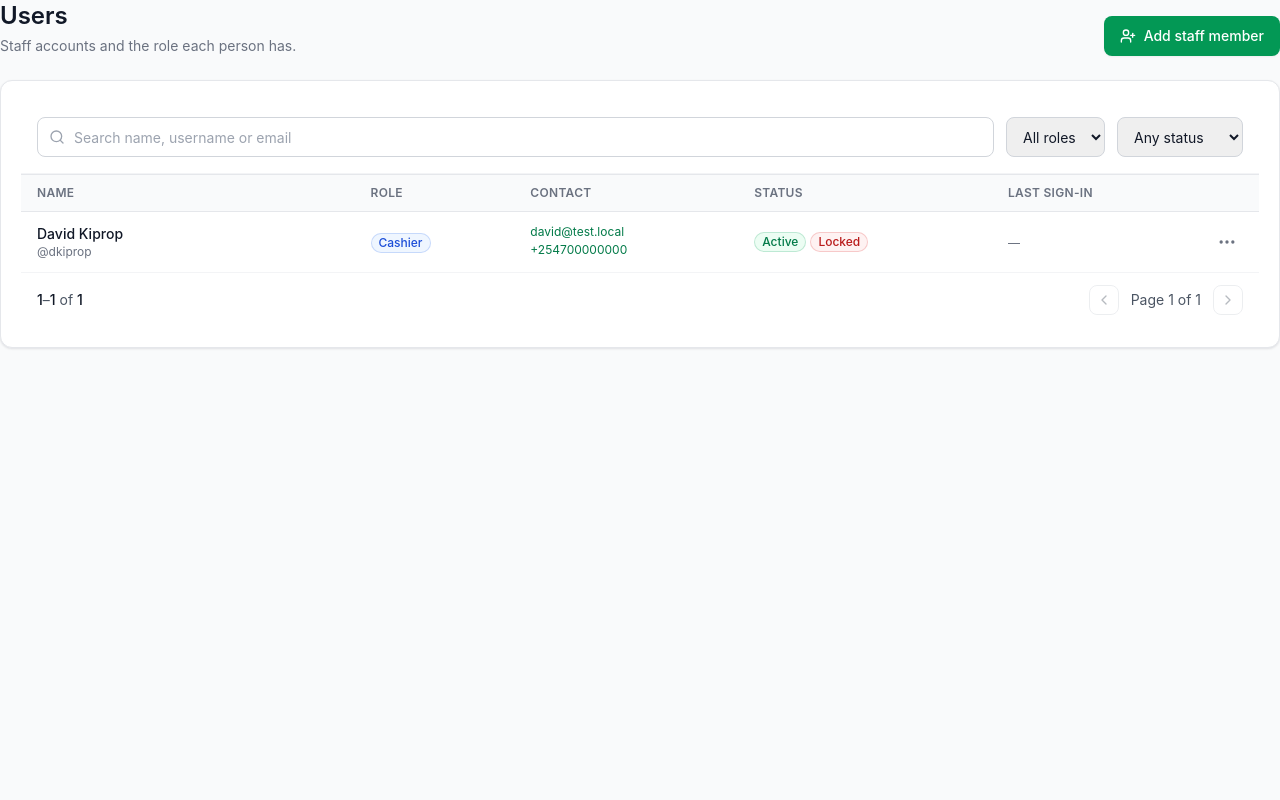
it: UsersPage › creates a user and shows the one-time setup link
The width and height of the screenshot is (1280, 800).
Click the button "Add staff member" at point(1192, 36), box [1104,16,1279,56]
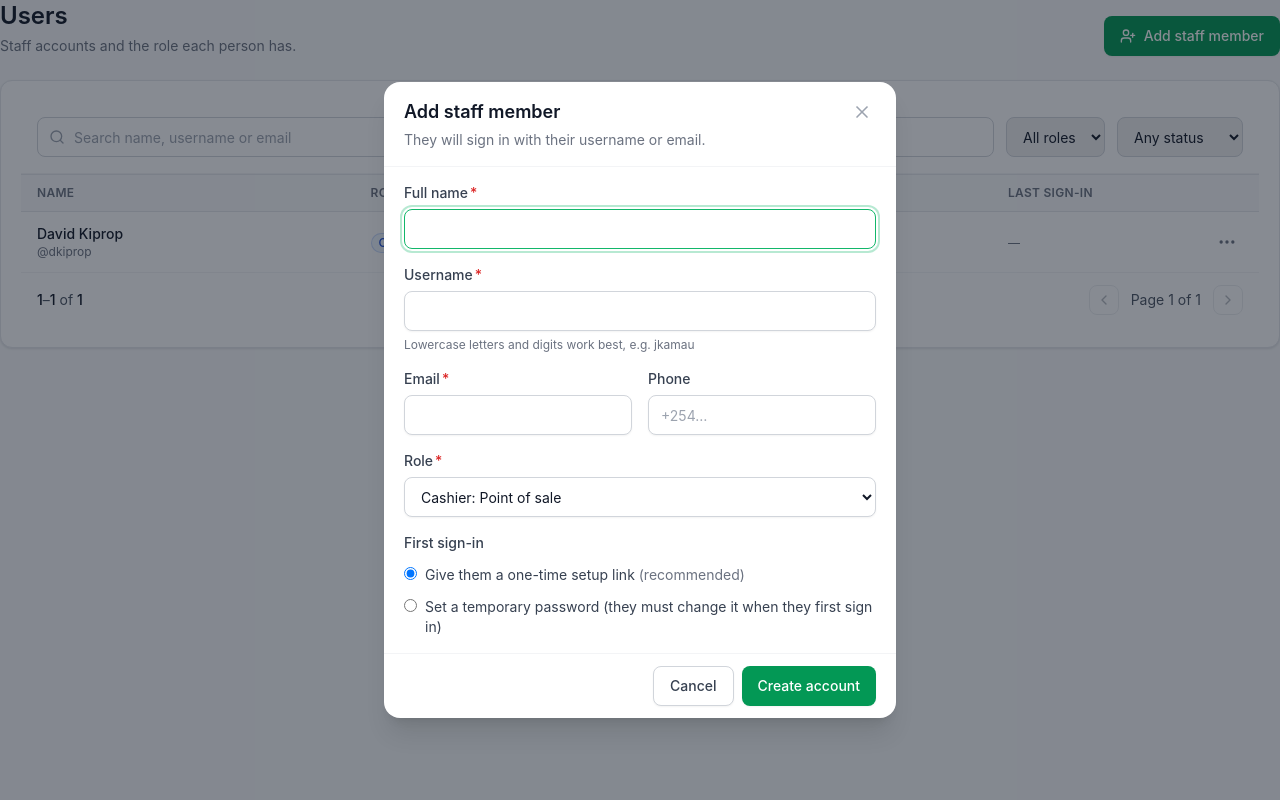
Type "Grace Njeri" into the field labelled "Full name*" at point(640, 229), box [404,209,876,249]
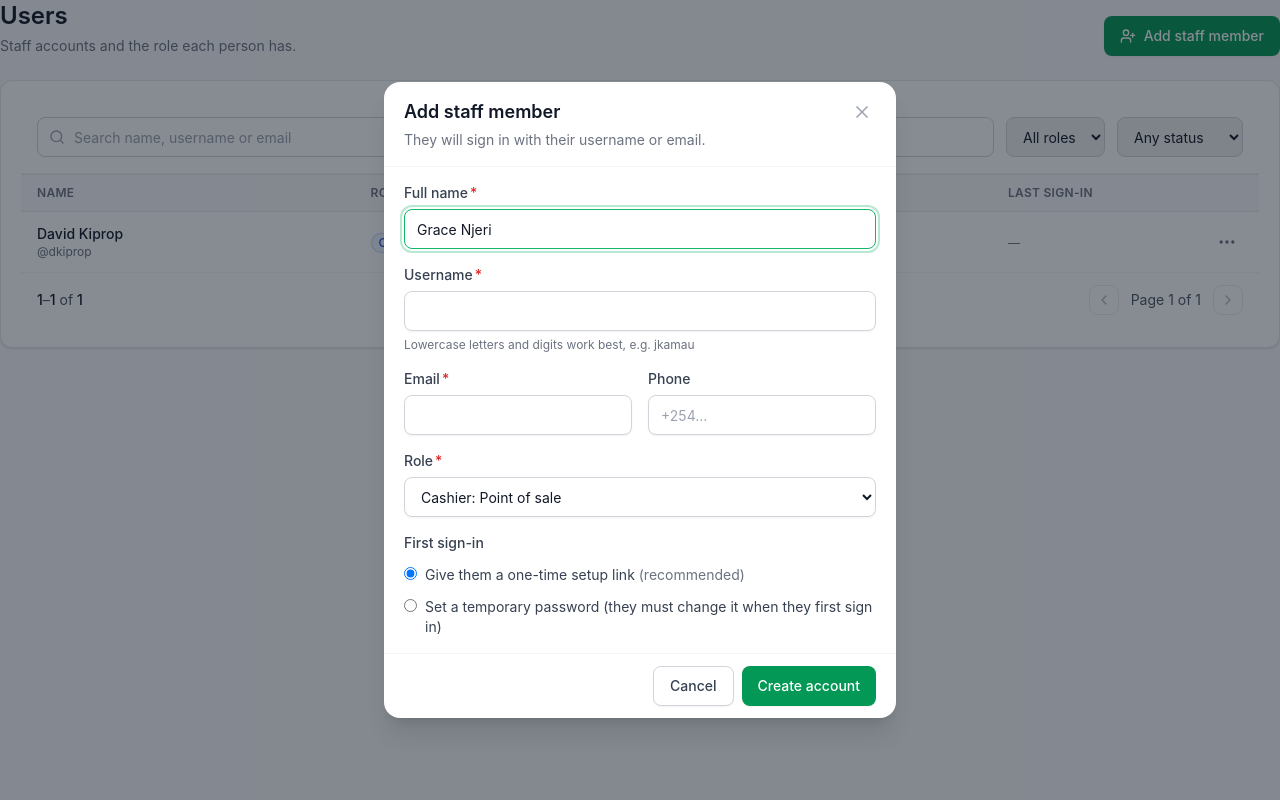
Type "gnjeri" into the field labelled "Username*" at point(640, 311), box [404,291,876,331]
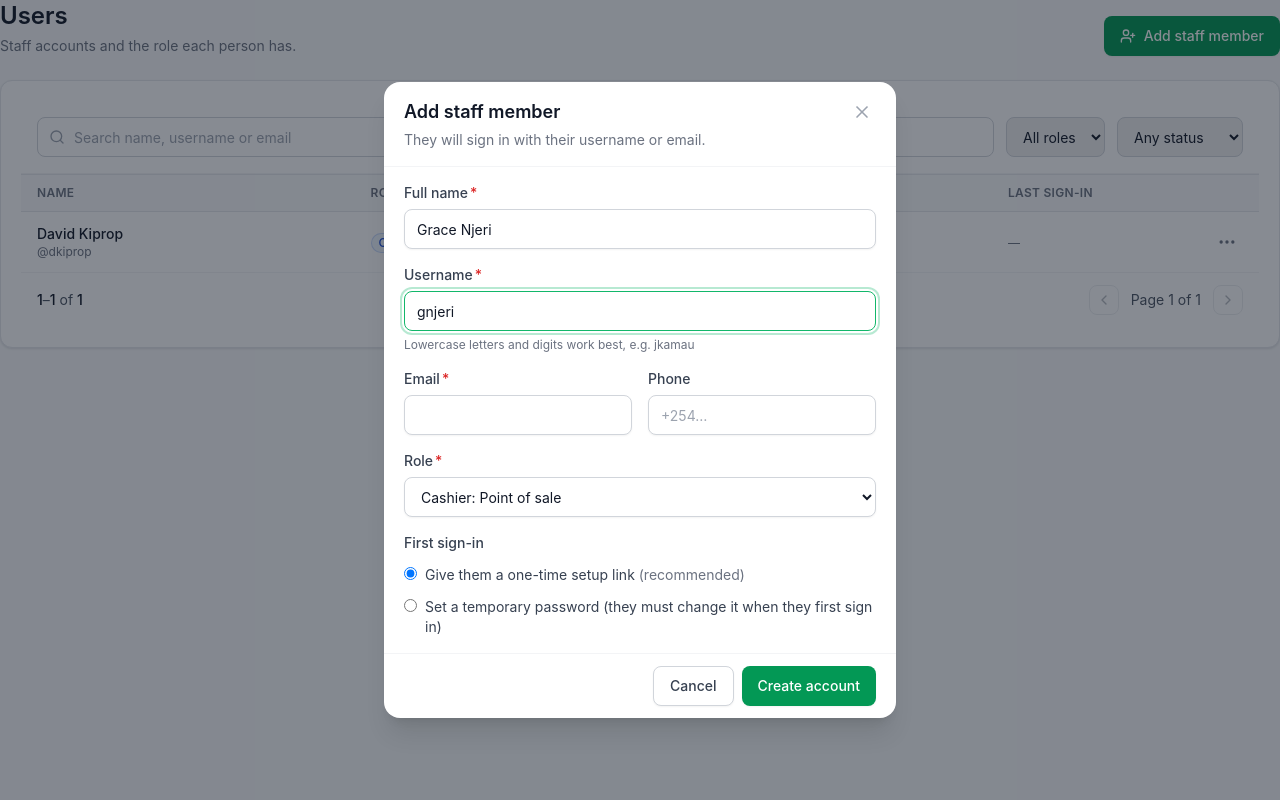
Type "grace@example.com" into the field labelled "Email*" at point(518, 415), box [404,395,632,435]
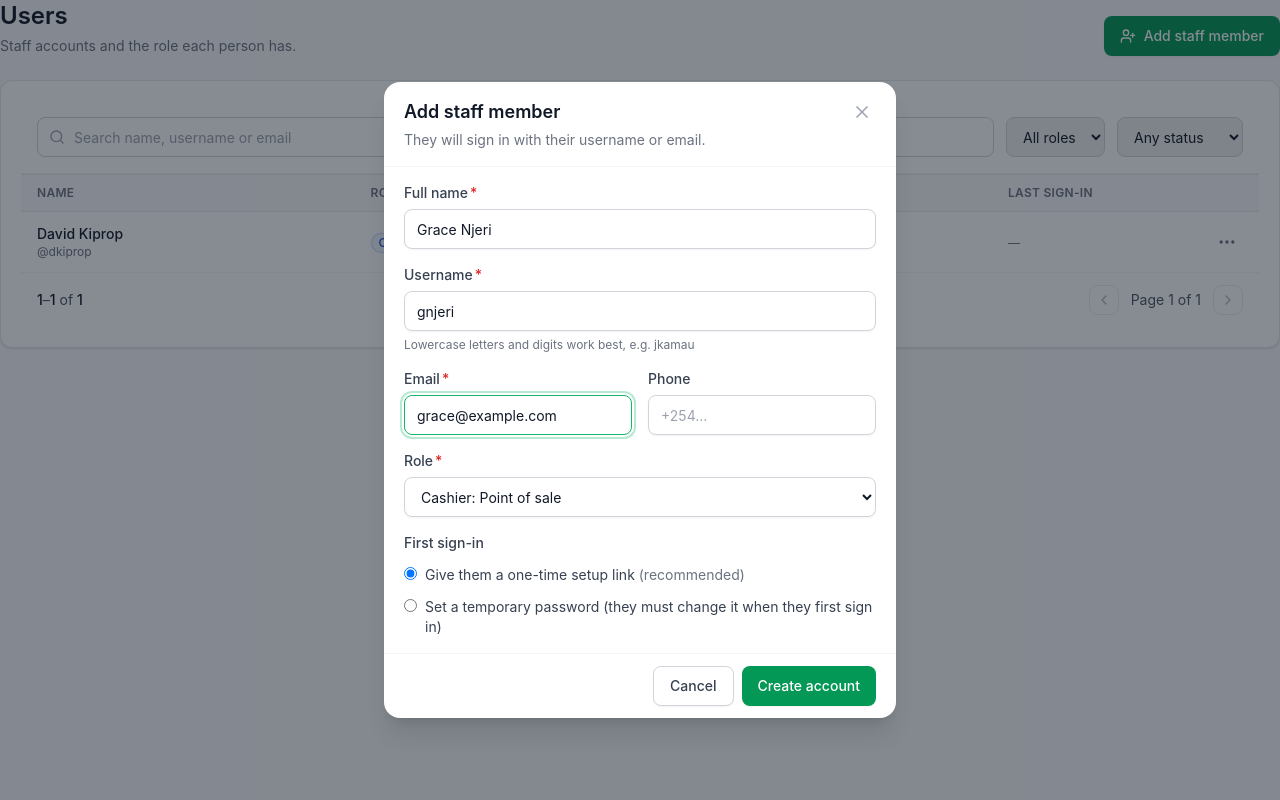
Click the button "Create account" at point(809, 686), box [742,666,876,706]
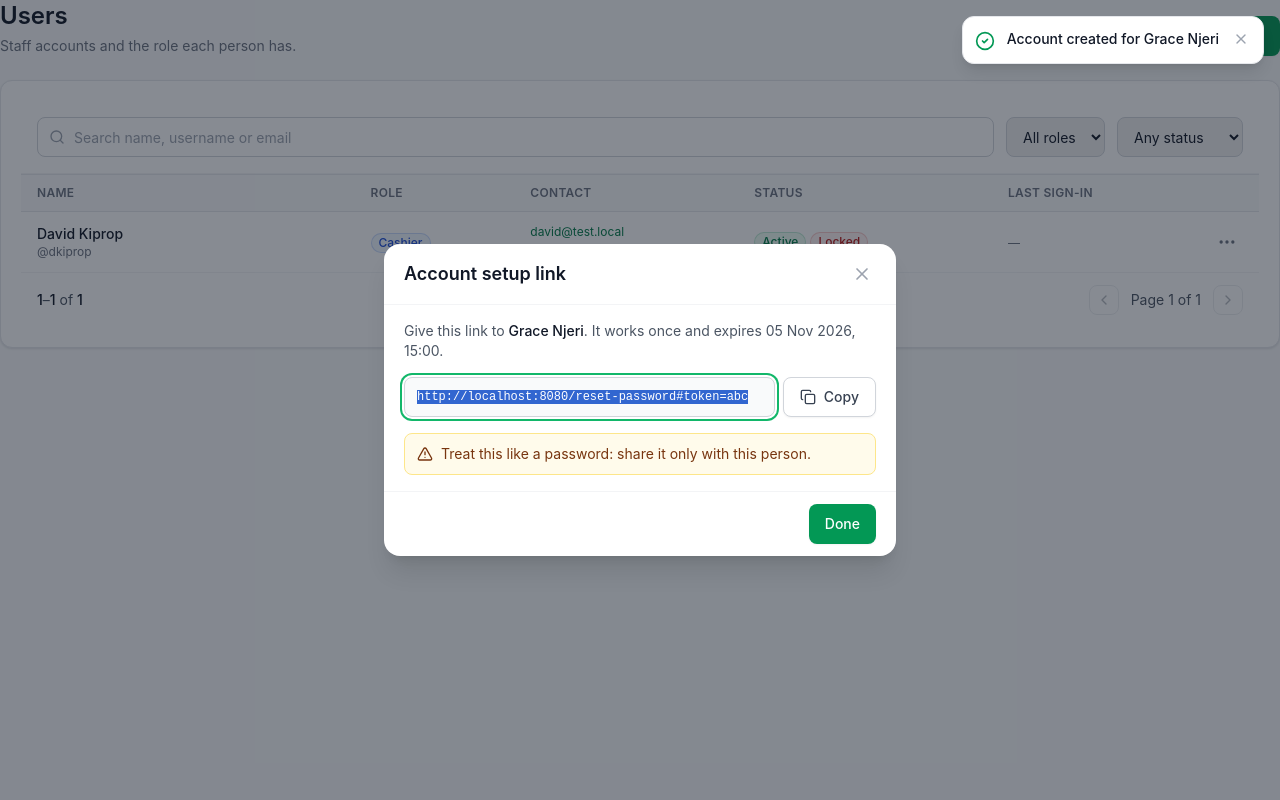
Result: the field showing "http://localhost:8080/reset-password#token=abc" is shown at [404,377,775,417]
